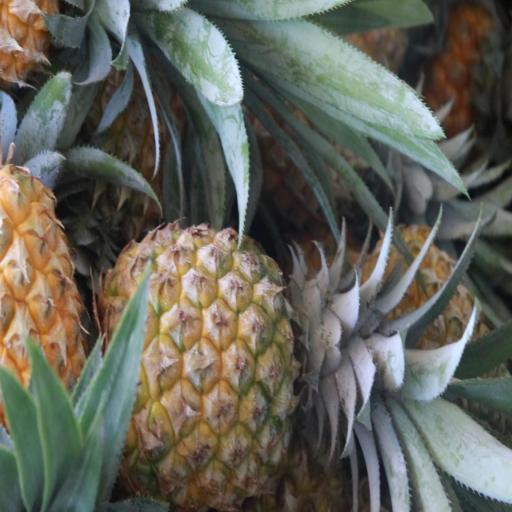Pineapple - v8 v1: (103, 224, 311, 502)
